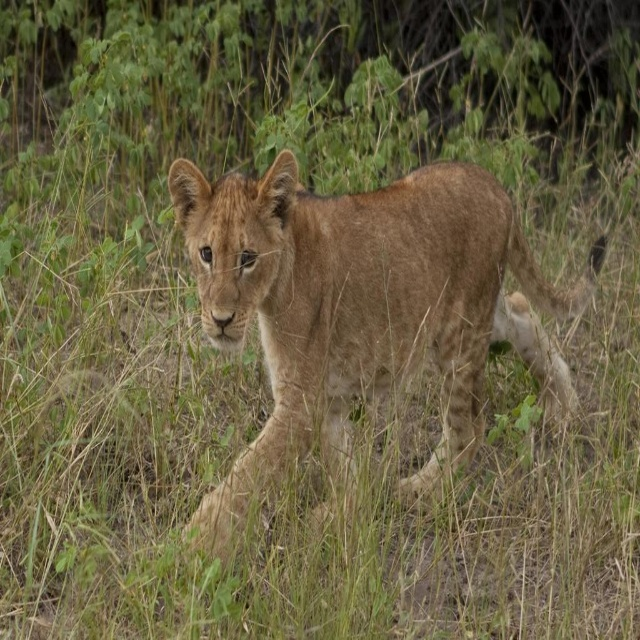Lion: (161, 150, 614, 582)
